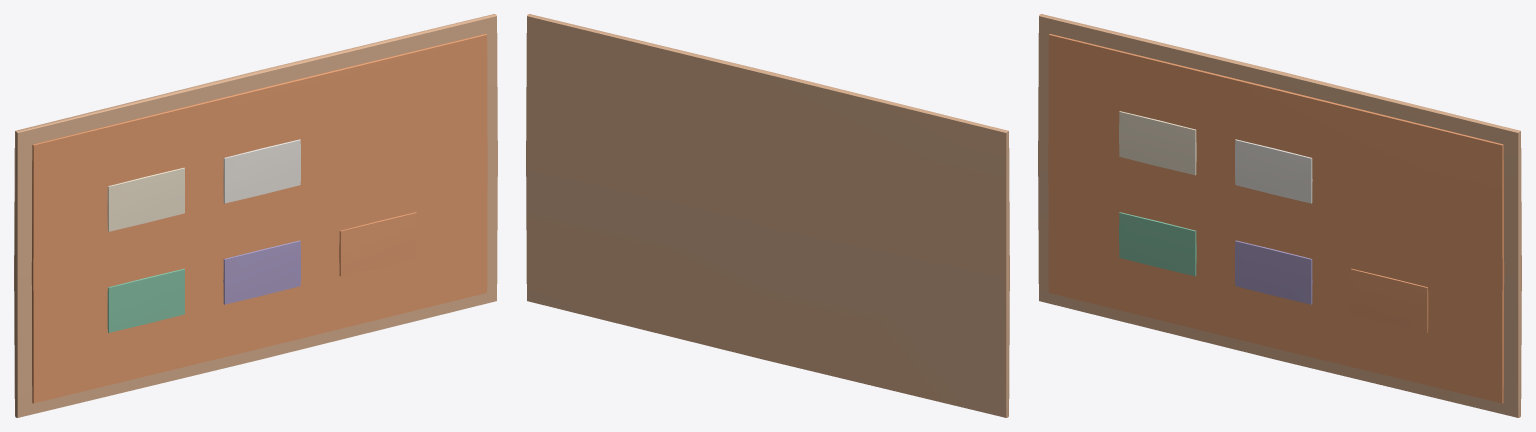
The model's file is corkboard.glb.
The picture shows the model from 3 angles, left to right: view 1: azimuth 30°, elevation 25°; view 2: azimuth 150°, elevation 25°; view 3: azimuth 330°, elevation 25°; orthographic projection.
Visible parts, largest first — view 1: part (×7); view 2: part; view 3: part (×7).
Part boxes in pixels (x1=…): part (×7): x1=14, y1=14, x2=497, y2=417; part: x1=526, y1=14, x2=1009, y2=417; part (×7): x1=1038, y1=14, x2=1521, y2=417.
Bounding box in the file's own units: 1.4 × 0.8 × 0.048.
1 material, 1 textured.
